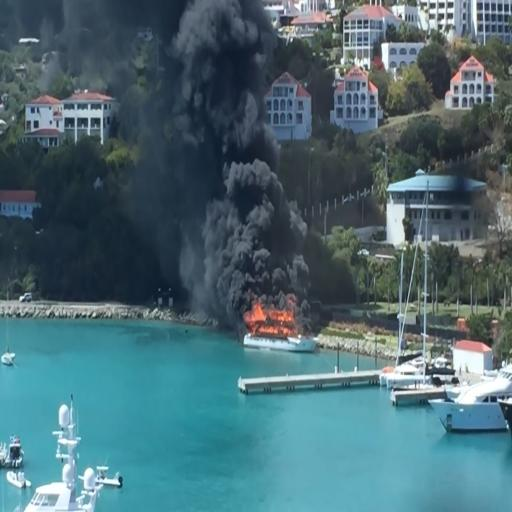fire: (244, 297, 292, 347)
smoke: (179, 57, 280, 275)
